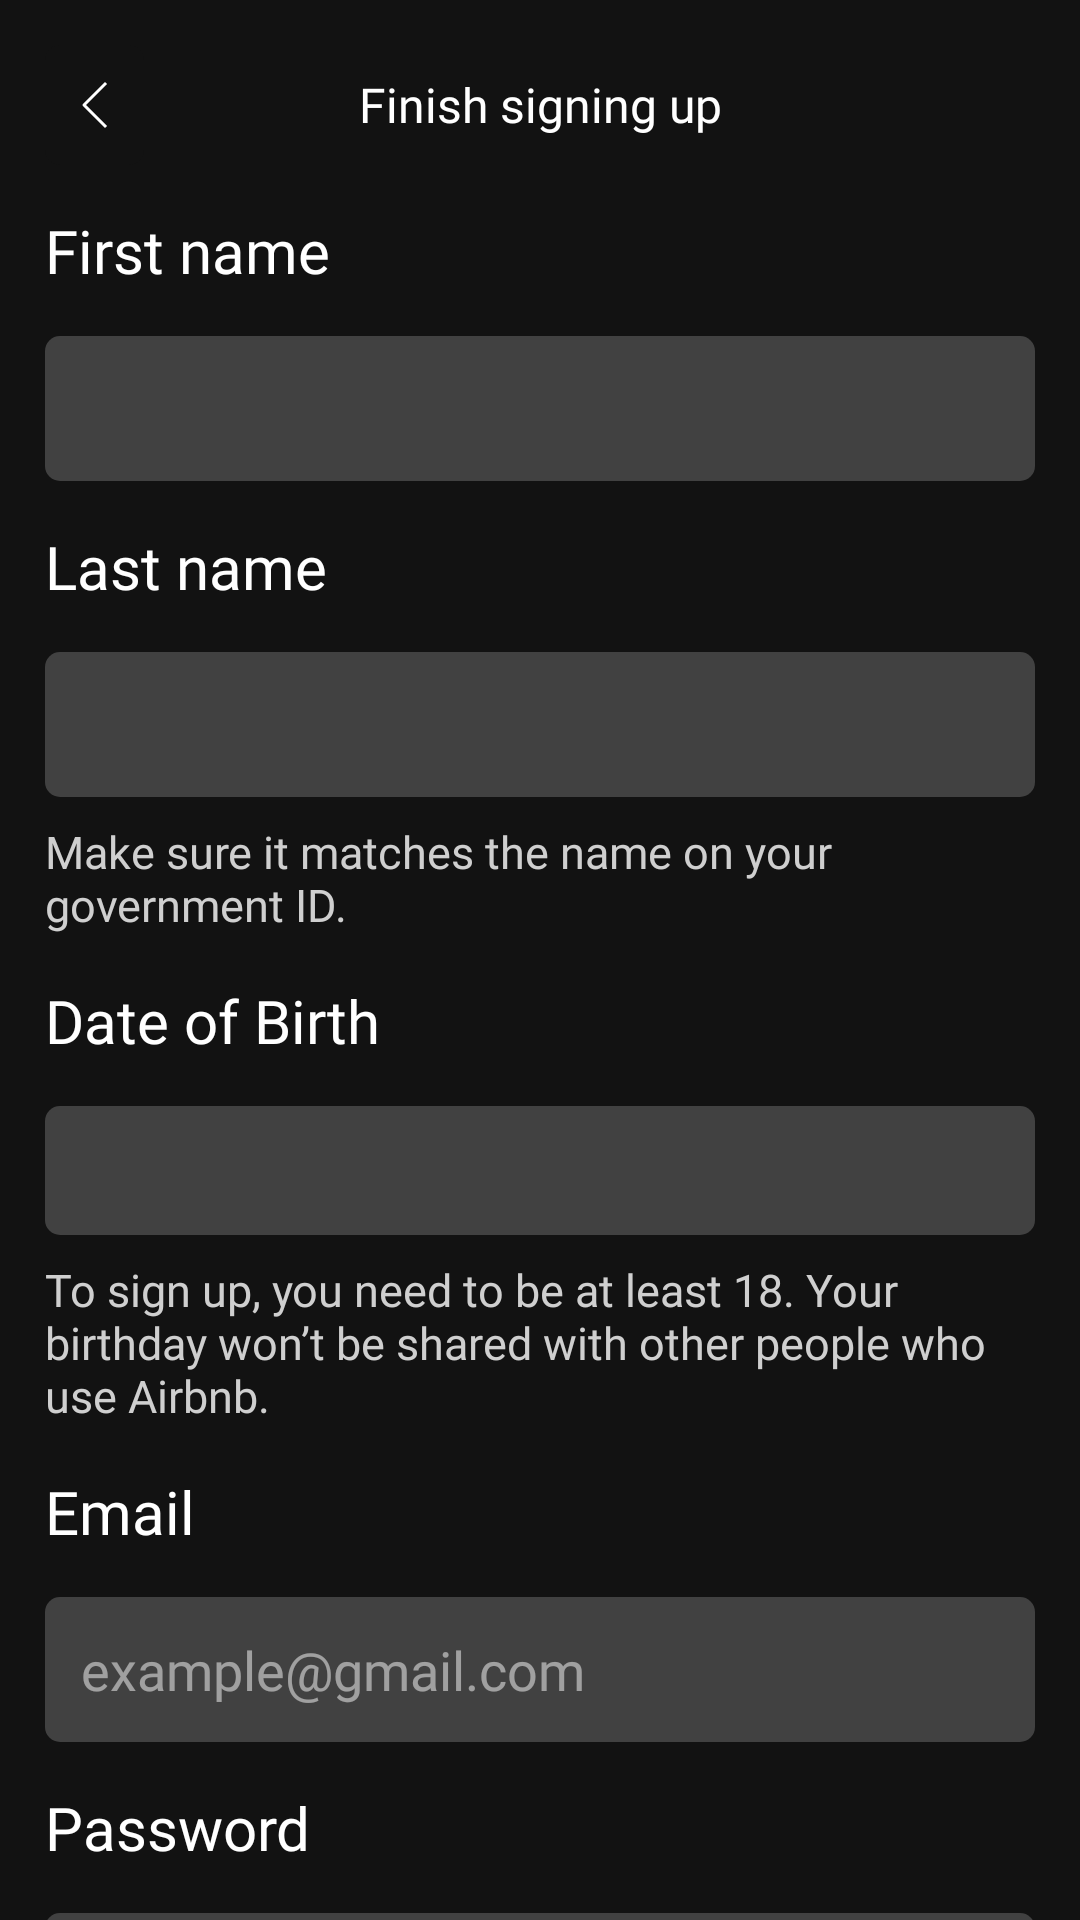

Screen size 1080×1920. Icon name, then its center in pixels as (x=x, y=y):
back: (x=94, y=105)
